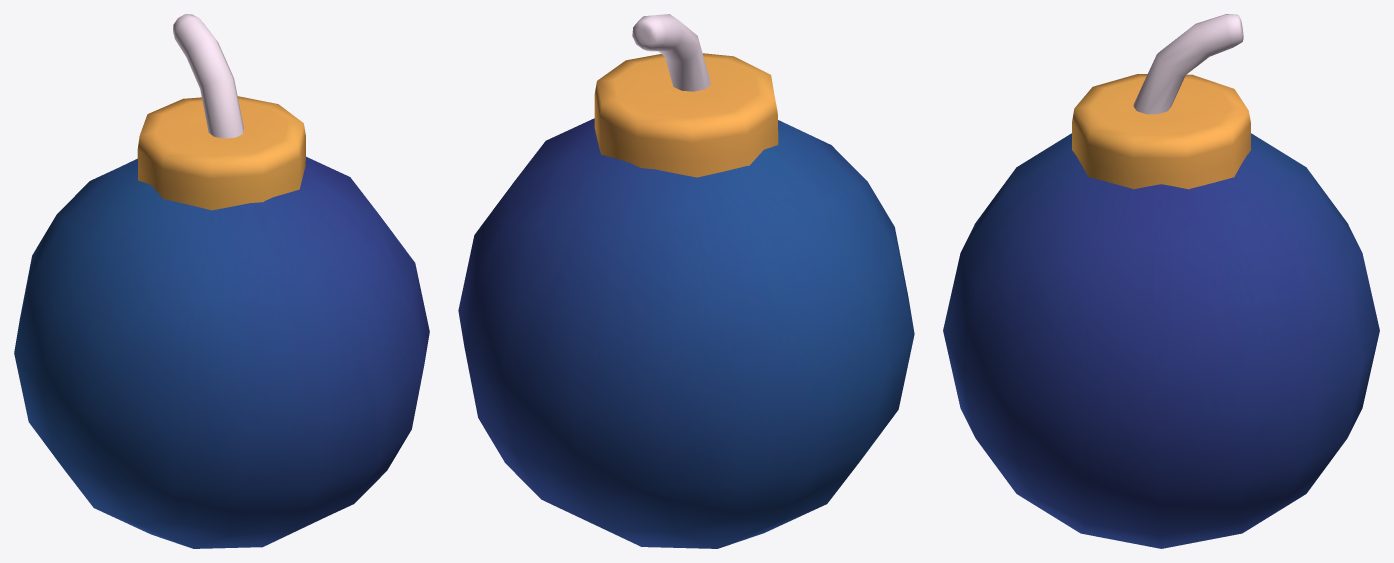
Rendered from Bomb.fbx.
3 renders of one model, left to right at view 1: azimuth 30°, elevation 25°; view 2: azimuth 150°, elevation 25°; view 3: azimuth 270°, elevation 25°, orthographic. The views are drawn at different scales.
Parts seen in each view (by area): view 1: Bomb; view 2: Bomb; view 3: Bomb.
Part boxes in pixels (<box>): Bomb: <box>14,14,429,548</box>; Bomb: <box>458,14,914,548</box>; Bomb: <box>943,14,1379,548</box>.
Size of the model in its own units: 2.64 by 3.43 by 2.64.
